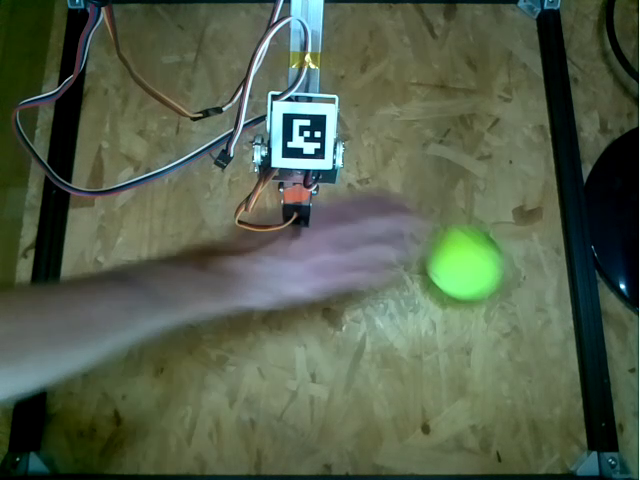tennis_ball: (428, 225, 506, 298)
